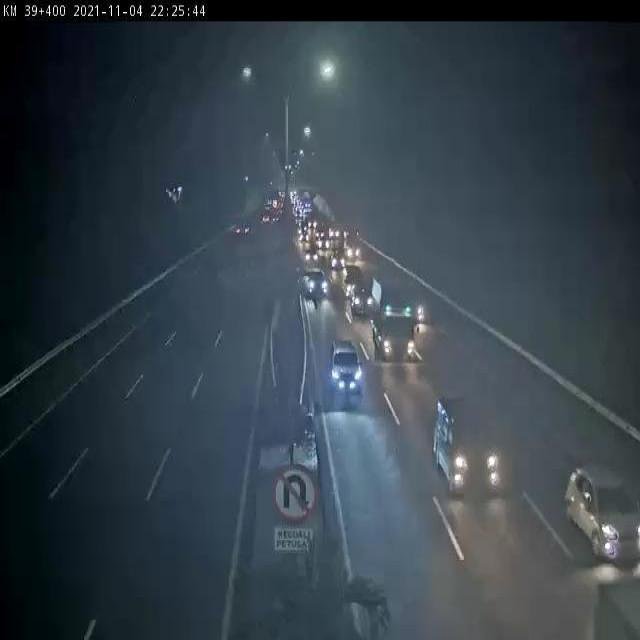car: (562, 461, 640, 560), (432, 397, 504, 496), (321, 333, 368, 398), (303, 267, 329, 305), (352, 284, 376, 319), (407, 289, 425, 323), (344, 266, 363, 298), (344, 234, 361, 262), (234, 217, 253, 240), (331, 248, 345, 271), (316, 230, 332, 250), (305, 246, 318, 262)
truck-m-: (372, 272, 421, 361)
